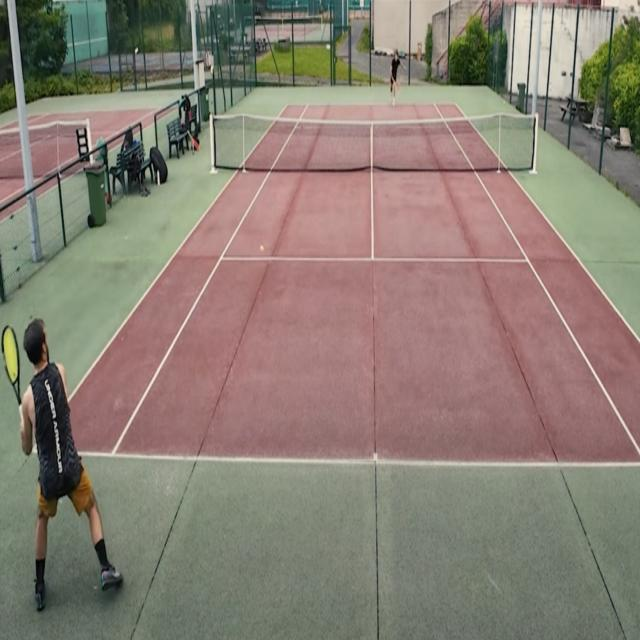ball: (260, 245, 264, 253)
